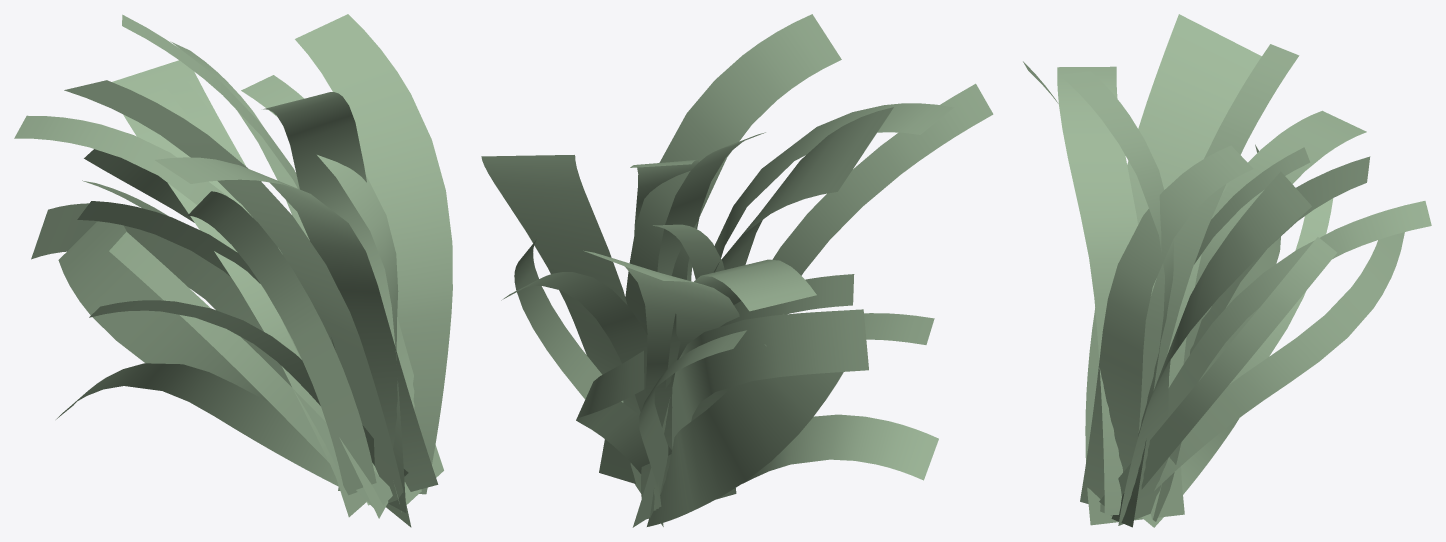
The model's file is SM_ocean_seaPlant_02.fbx.
3 renders of one model, left to right at view 1: azimuth 30°, elevation 25°; view 2: azimuth 150°, elevation 25°; view 3: azimuth 270°, elevation 25°, orthographic. The views are drawn at different scales.
Visible parts, largest first — view 1: SM_ocean_seaPlant_02_LOD0; view 2: SM_ocean_seaPlant_02_LOD0; view 3: SM_ocean_seaPlant_02_LOD0.
Boxes of the visible parts, bbox=[...] form: SM_ocean_seaPlant_02_LOD0: bbox=[14, 14, 452, 527]; SM_ocean_seaPlant_02_LOD0: bbox=[481, 14, 993, 527]; SM_ocean_seaPlant_02_LOD0: bbox=[1023, 14, 1431, 527].
Size of what is drawn, in the model's own units: 84.44 by 89.82 by 99.14.
